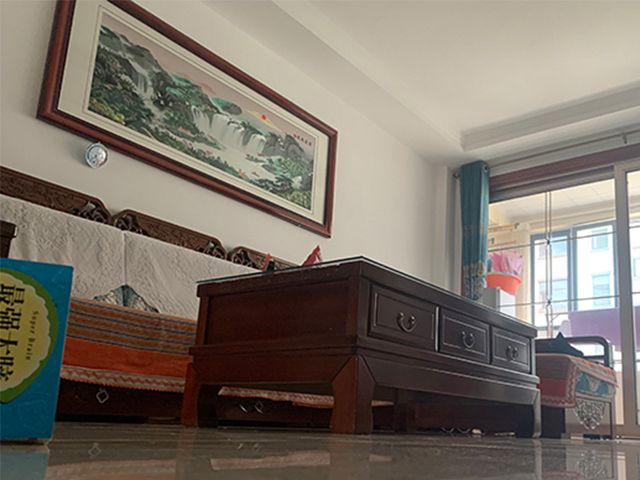book: (1, 256, 74, 444)
sofa: (1, 160, 200, 425), (536, 334, 618, 440)
table: (180, 255, 542, 439)
